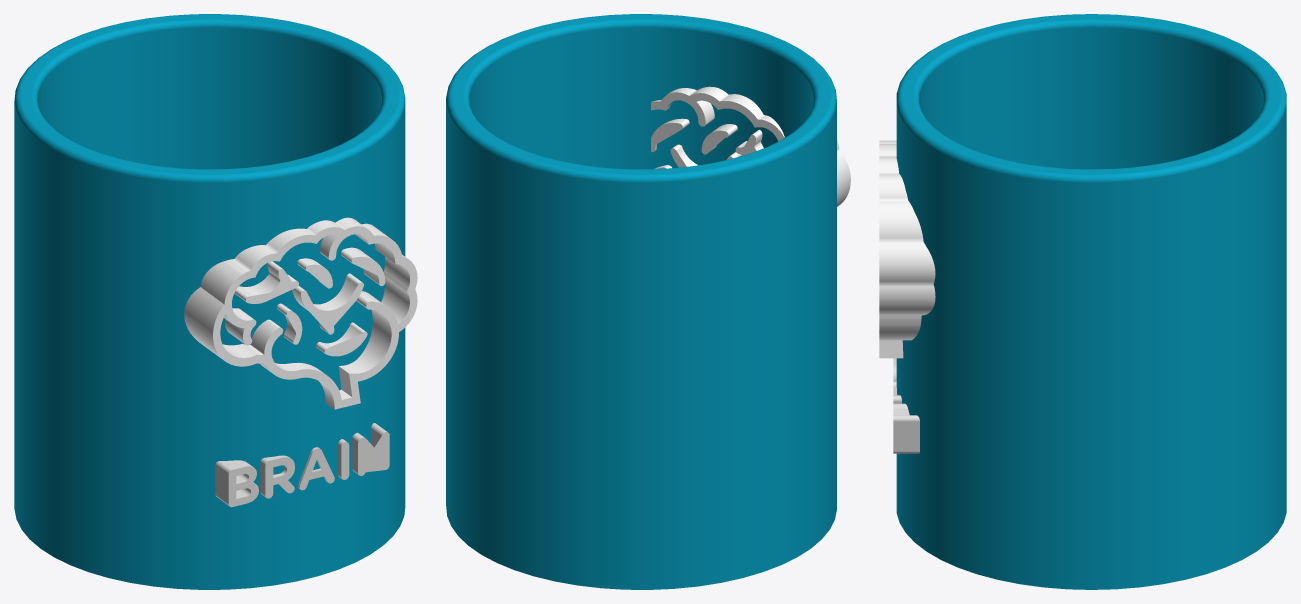
The model's file is CAN_BRAIN.fbx.
3 renders of one model, left to right at view 1: azimuth 30°, elevation 25°; view 2: azimuth 150°, elevation 25°; view 3: azimuth 270°, elevation 25°, orthographic.
Visible parts, largest first — view 1: Cylinder_1, Extrude_3, Cap_1_6, Cap_1_5, B, Cap_1, Cap_1_2, Cap_1_3; view 2: Cylinder_1, Cap_2_6, Extrude_3; view 3: Cylinder_1, Extrude_3, N.
Boxes of the visible parts, bbox=[...] form: Cylinder_1: bbox=[14, 14, 405, 589]; Extrude_3: bbox=[184, 217, 409, 409]; Cap_1_6: bbox=[213, 226, 417, 409]; Cap_1_5: bbox=[358, 432, 389, 475]; B: bbox=[215, 460, 254, 505]; Cap_1: bbox=[228, 466, 258, 507]; Cap_1_2: bbox=[265, 457, 294, 498]; Cap_1_3: bbox=[299, 448, 334, 490]; Cylinder_1: bbox=[446, 14, 836, 589]; Cap_2_6: bbox=[651, 92, 784, 168]; Extrude_3: bbox=[653, 86, 850, 206]; Cylinder_1: bbox=[896, 14, 1286, 589]; Extrude_3: bbox=[879, 140, 935, 358]; N: bbox=[893, 403, 919, 453].
Bounding box in the file's own units: 200 × 233 × 208.
